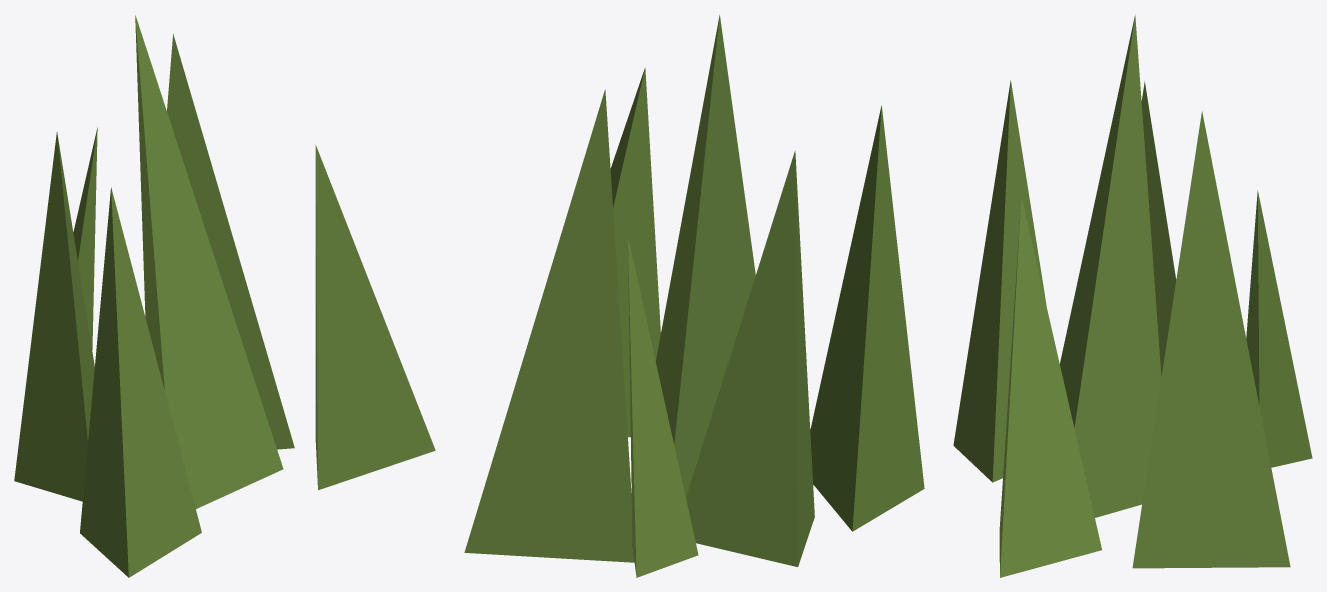
File: grass_6.fbx
3 views of the same model, side by side, from view 1: azimuth 30°, elevation 25°; view 2: azimuth 150°, elevation 25°; view 3: azimuth 270°, elevation 25° (orthographic). The views are drawn at different scales.
Visible parts, largest first — view 1: Grass_06; view 2: Grass_06; view 3: Grass_06.
Part boxes in pixels (<box>): Grass_06: <box>14,15,435,577</box>; Grass_06: <box>464,14,924,577</box>; Grass_06: <box>953,15,1312,577</box>.
Size of the model in its own units: 138 by 192 by 128.
1 material, 1 textured.
